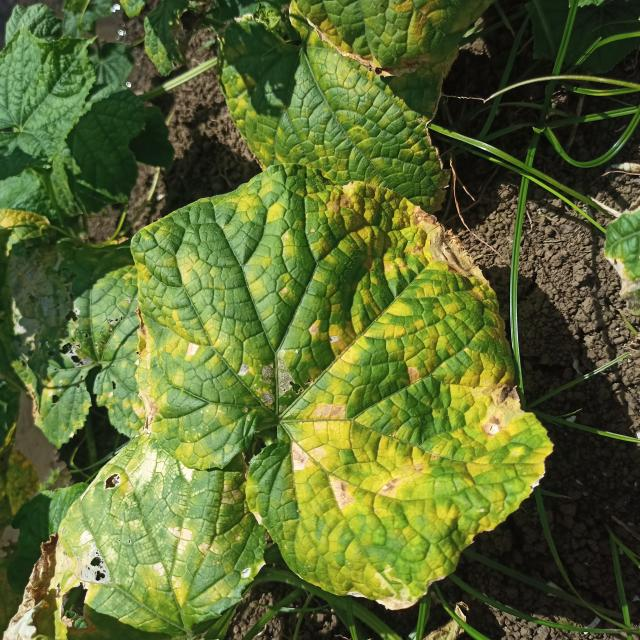disease_cucumber: (135, 165, 553, 608), (67, 447, 256, 626)
